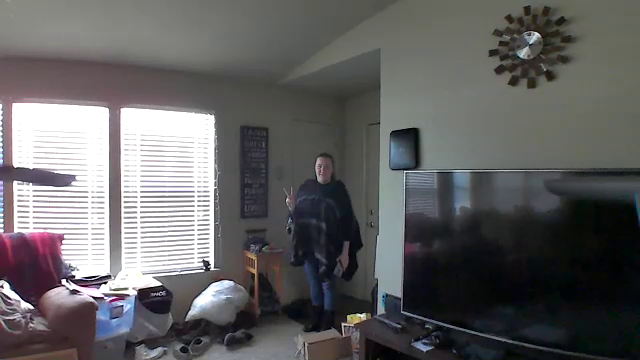peace: (279, 183, 303, 215)
